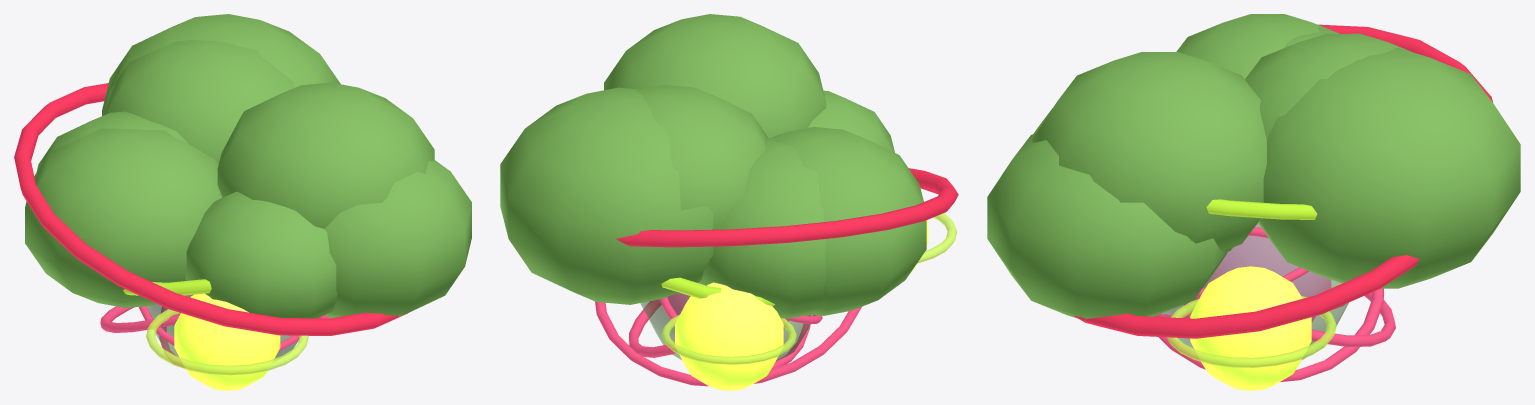
File: cumulus.glb
3 renders of one model, left to right at view 1: azimuth 30°, elevation 25°; view 2: azimuth 150°, elevation 25°; view 3: azimuth 270°, elevation 25°, orthographic. The views are drawn at different scales.
Visible parts, largest first — view 1: _MeshInstance3D_989, StormCrownOuter, _MeshInstance3D_996, SacHalo1, _MeshInstance3D_1007, StormCrownInner, Shell, _MeshInstance3D_1004; view 2: _MeshInstance3D_989, _MeshInstance3D_999, StormCrownOuter, _MeshInstance3D_1007, SacHalo2, Shell, _MeshInstance3D_1006, StormCrownInner, _MeshInstance3D_1005, SacHalo1; view 3: _MeshInstance3D_989, _MeshInstance3D_993, StormCrownOuter, Shell, _MeshInstance3D_1002, SacHalo0, _MeshInstance3D_1006, StormCrownInner, _MeshInstance3D_1007.
Part boxes in pixels (bbox=[...]): _MeshInstance3D_989: bbox=[25, 14, 471, 318]; StormCrownOuter: bbox=[14, 83, 407, 335]; _MeshInstance3D_996: bbox=[174, 293, 280, 390]; SacHalo1: bbox=[146, 309, 308, 375]; _MeshInstance3D_1007: bbox=[100, 306, 180, 332]; StormCrownInner: bbox=[123, 279, 211, 295]; Shell: bbox=[147, 294, 298, 358]; _MeshInstance3D_1004: bbox=[138, 306, 300, 351]; _MeshInstance3D_989: bbox=[500, 14, 926, 318]; _MeshInstance3D_999: bbox=[675, 282, 783, 390]; StormCrownOuter: bbox=[616, 168, 958, 247]; _MeshInstance3D_1007: bbox=[595, 301, 861, 386]; SacHalo2: bbox=[661, 314, 796, 364]; Shell: bbox=[640, 292, 814, 360]; _MeshInstance3D_1006: bbox=[629, 299, 676, 357]; StormCrownInner: bbox=[661, 277, 775, 306]; _MeshInstance3D_1005: bbox=[660, 297, 810, 368]; SacHalo1: bbox=[917, 213, 957, 263]; _MeshInstance3D_989: bbox=[987, 14, 1520, 318]; _MeshInstance3D_993: bbox=[1190, 266, 1311, 390]; StormCrownOuter: bbox=[1074, 24, 1492, 338]; Shell: bbox=[1162, 223, 1348, 359]; _MeshInstance3D_1002: bbox=[1184, 223, 1330, 321]; SacHalo0: bbox=[1167, 295, 1336, 367]; _MeshInstance3D_1006: bbox=[1158, 288, 1383, 381]; StormCrownInner: bbox=[1206, 199, 1317, 219]; _MeshInstance3D_1007: bbox=[1196, 287, 1395, 346].
Bounding box in the file's own units: 20.15 × 14.19 × 20.67.
